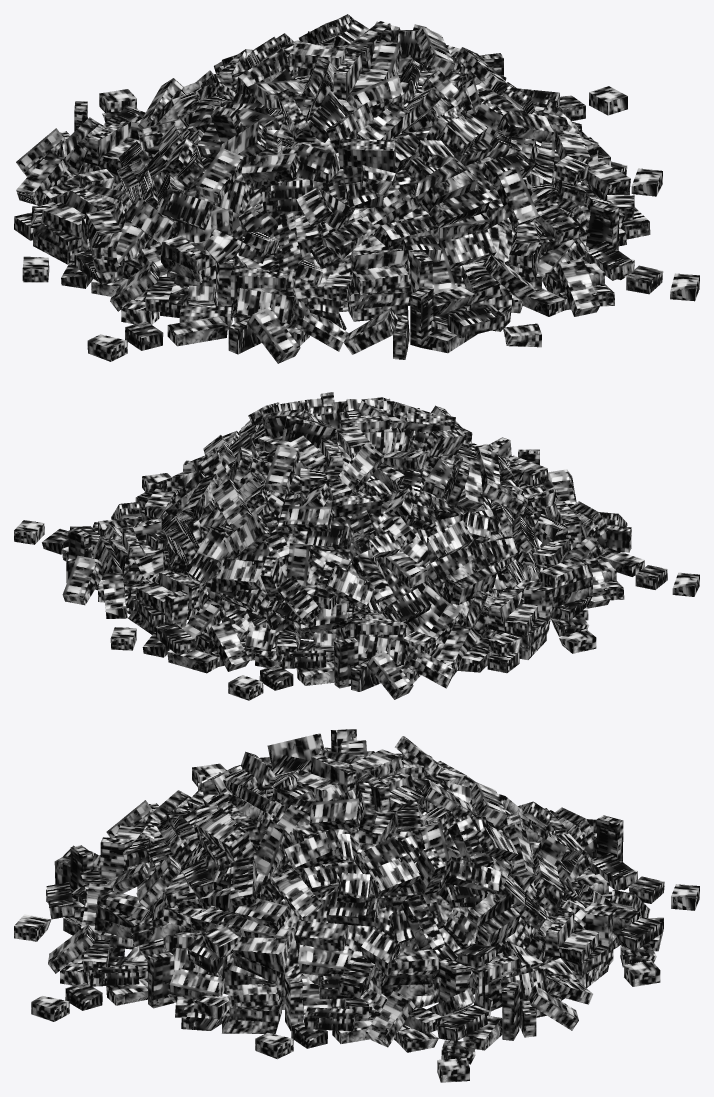
File: brick_megapack.fbx
3 renders of one model, top to bottom at view 1: azimuth 30°, elevation 25°; view 2: azimuth 150°, elevation 25°; view 3: azimuth 270°, elevation 25°, orthographic. The views are drawn at different scales.
Parts seen in each view (by area): view 1: bricks_megapack; view 2: bricks_megapack; view 3: bricks_megapack.
Boxes of the visible parts, x1,y1,x2,y2 form: bricks_megapack: [14, 14, 699, 363]; bricks_megapack: [14, 392, 699, 700]; bricks_megapack: [14, 729, 699, 1082].
Bounding box in the file's own units: 2.89 × 0.7644 × 2.73.
